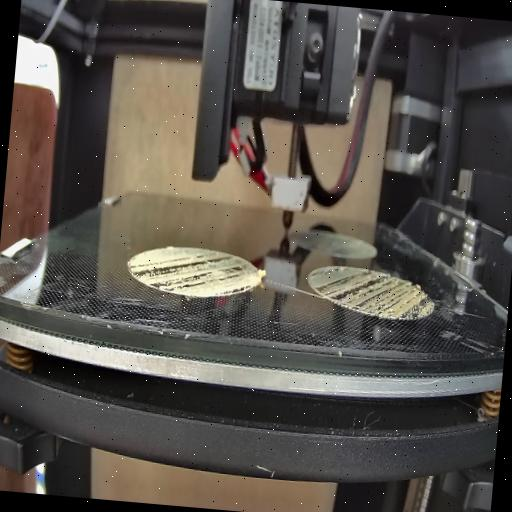under_extrusion: (308, 262, 434, 322), (126, 246, 251, 298)
